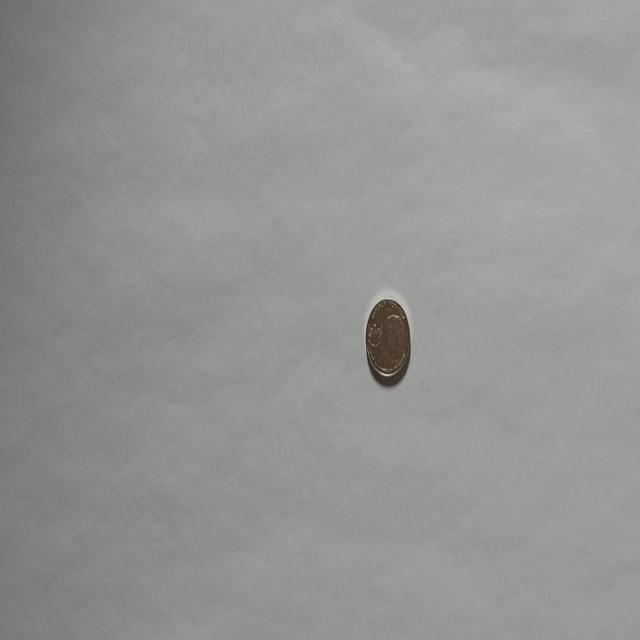seratus rupiah: (364, 296, 410, 385)
